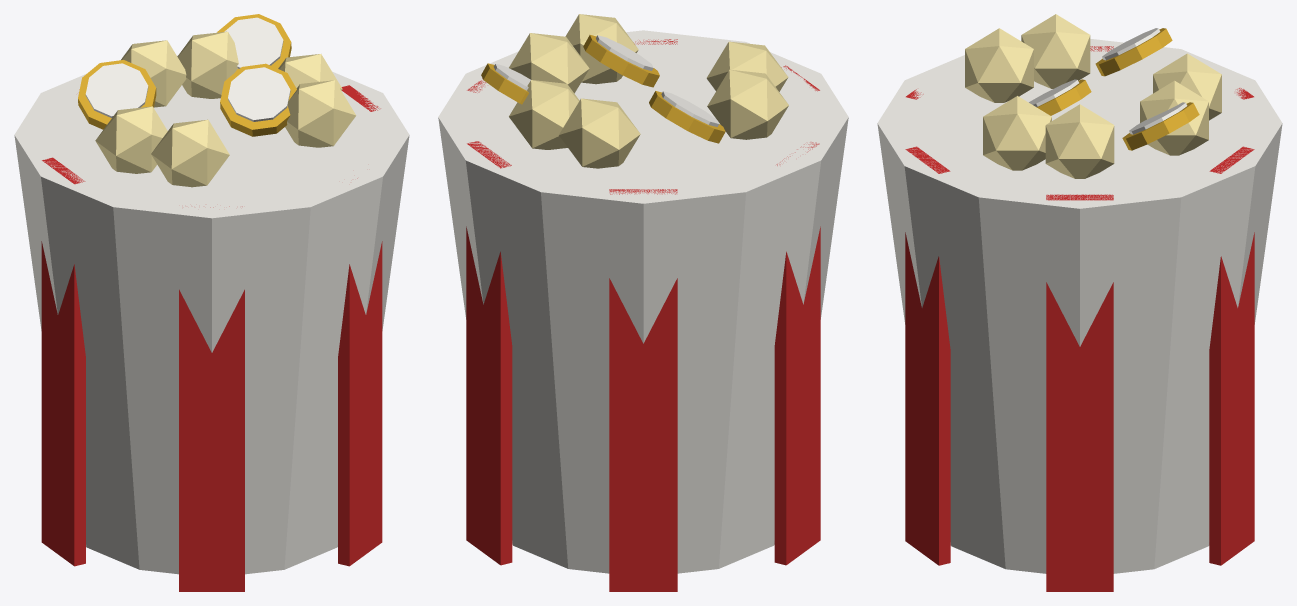
The model's file is watches_bucket.glb.
The picture shows the model from 3 angles, left to right: view 1: azimuth 30°, elevation 25°; view 2: azimuth 150°, elevation 25°; view 3: azimuth 270°, elevation 25°; orthographic projection. The views are drawn at different scales.
Parts seen in each view (by area): view 1: bucket_white, stripes_bucket_red, corn_popcorn, faces_white, watches_watch_gold; view 2: bucket_white, stripes_bucket_red, corn_popcorn, watches_watch_gold, faces_white; view 3: bucket_white, stripes_bucket_red, corn_popcorn, watches_watch_gold, faces_white.
Boxes of the visible parts, x1=… form: bucket_white: x1=14, y1=55, x2=409, y2=574; stripes_bucket_red: x1=41, y1=85, x2=382, y2=591; corn_popcorn: x1=95, y1=31, x2=356, y2=187; faces_white: x1=85, y1=17, x2=290, y2=121; watches_watch_gold: x1=78, y1=14, x2=296, y2=136; bucket_white: x1=438, y1=30, x2=848, y2=573; stripes_bucket_red: x1=466, y1=39, x2=820, y2=591; corn_popcorn: x1=509, y1=14, x2=788, y2=168; watches_watch_gold: x1=481, y1=35, x2=725, y2=143; faces_white: x1=493, y1=35, x2=718, y2=126; bucket_white: x1=877, y1=39, x2=1282, y2=573; stripes_bucket_red: x1=905, y1=46, x2=1254, y2=591; corn_popcorn: x1=965, y1=14, x2=1221, y2=178; watches_watch_gold: x1=1036, y1=28, x2=1199, y2=150; faces_white: x1=1029, y1=28, x2=1187, y2=134.
Size of the model in its own units: 0.3 by 0.3704 by 0.3.
